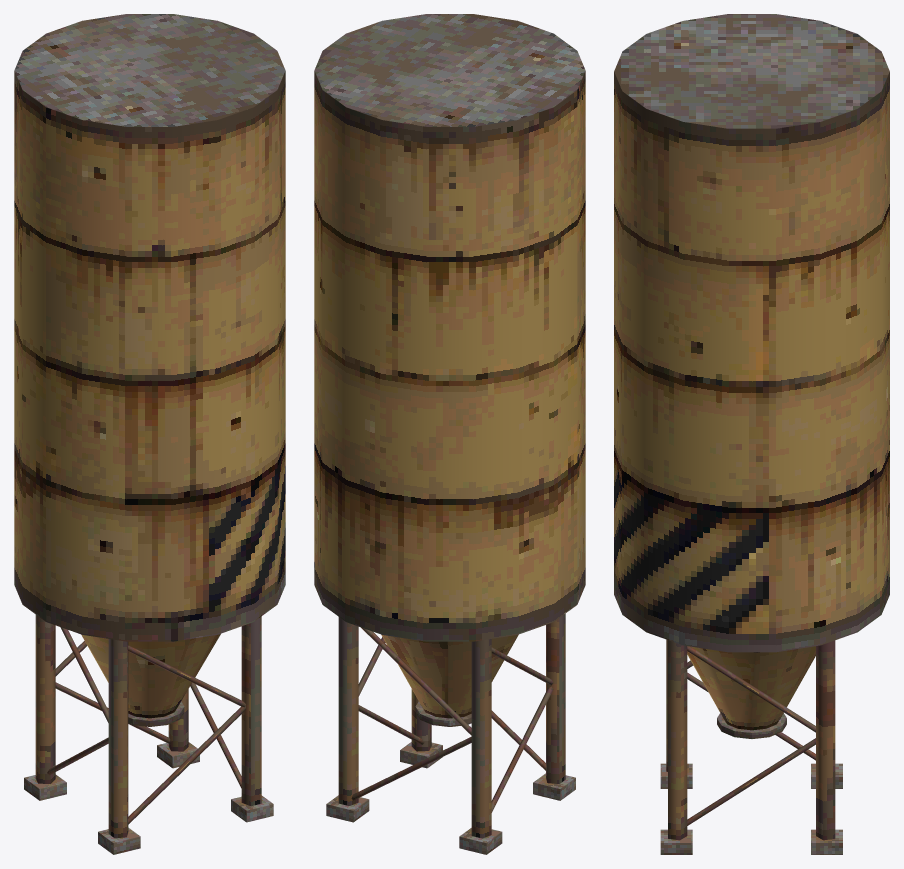
File: liquid_reservoir_2.glb
3 renders of one model, left to right at view 1: azimuth 30°, elevation 25°; view 2: azimuth 150°, elevation 25°; view 3: azimuth 270°, elevation 25°, orthographic.
Parts seen in each view (by area): view 1: Liquid_reservoir_2; view 2: Liquid_reservoir_2; view 3: Liquid_reservoir_2.
Part boxes in pixels (x1,y1,x2,y2): Liquid_reservoir_2: (14, 14, 285, 854); Liquid_reservoir_2: (314, 14, 585, 854); Liquid_reservoir_2: (614, 14, 889, 854).
Bounding box in the file's own units: 1.71 × 5.18 × 1.74.
1 material, 1 textured.
